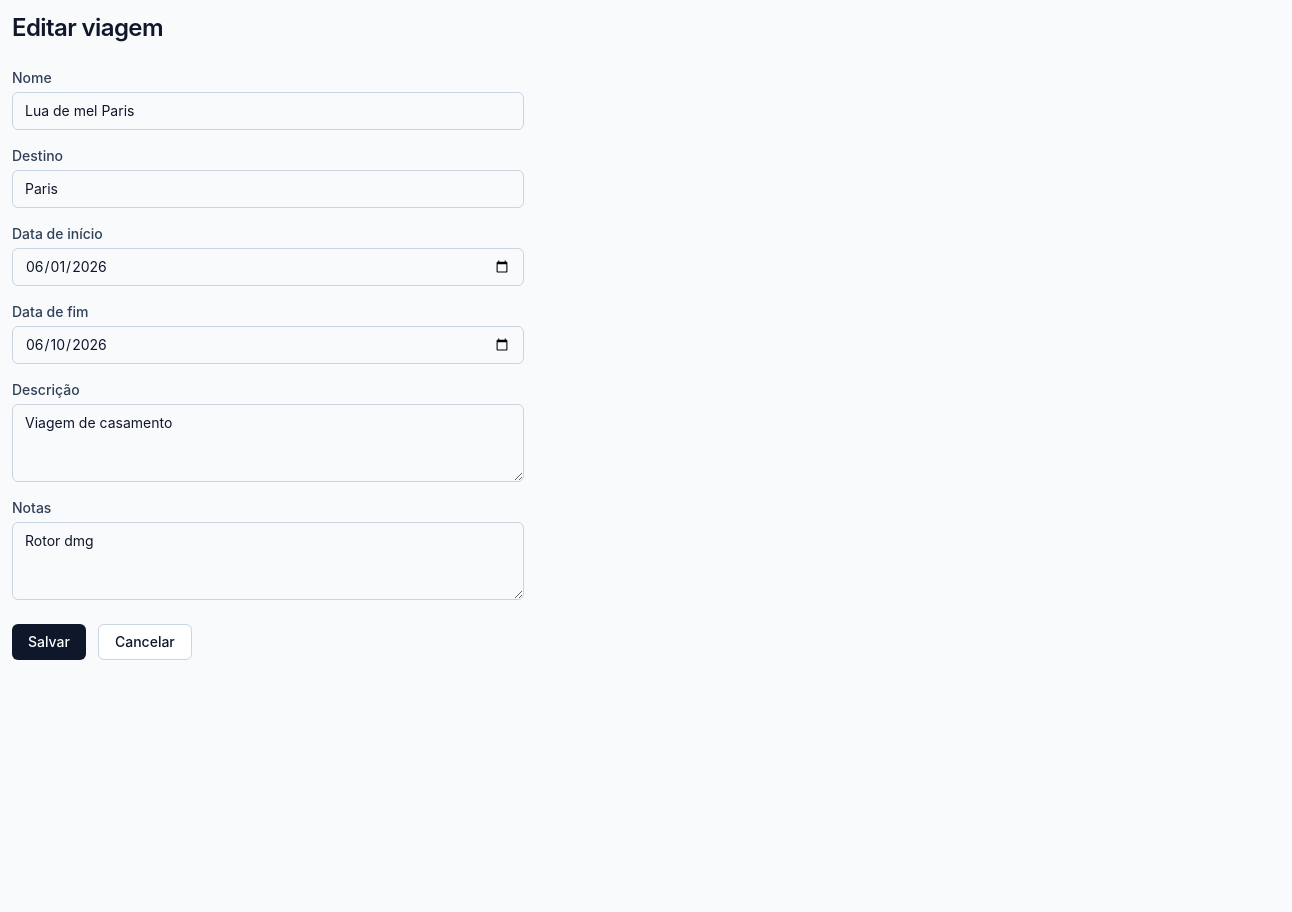
it: TripEditPage › 500/unknown error shows a generic safe fallback
This screenshot has width=1292, height=912.
Expected: the field labelled "Nome" is shown, [12, 92, 524, 130]
Click the button "Salvar" at (49, 642), box [12, 624, 86, 660]
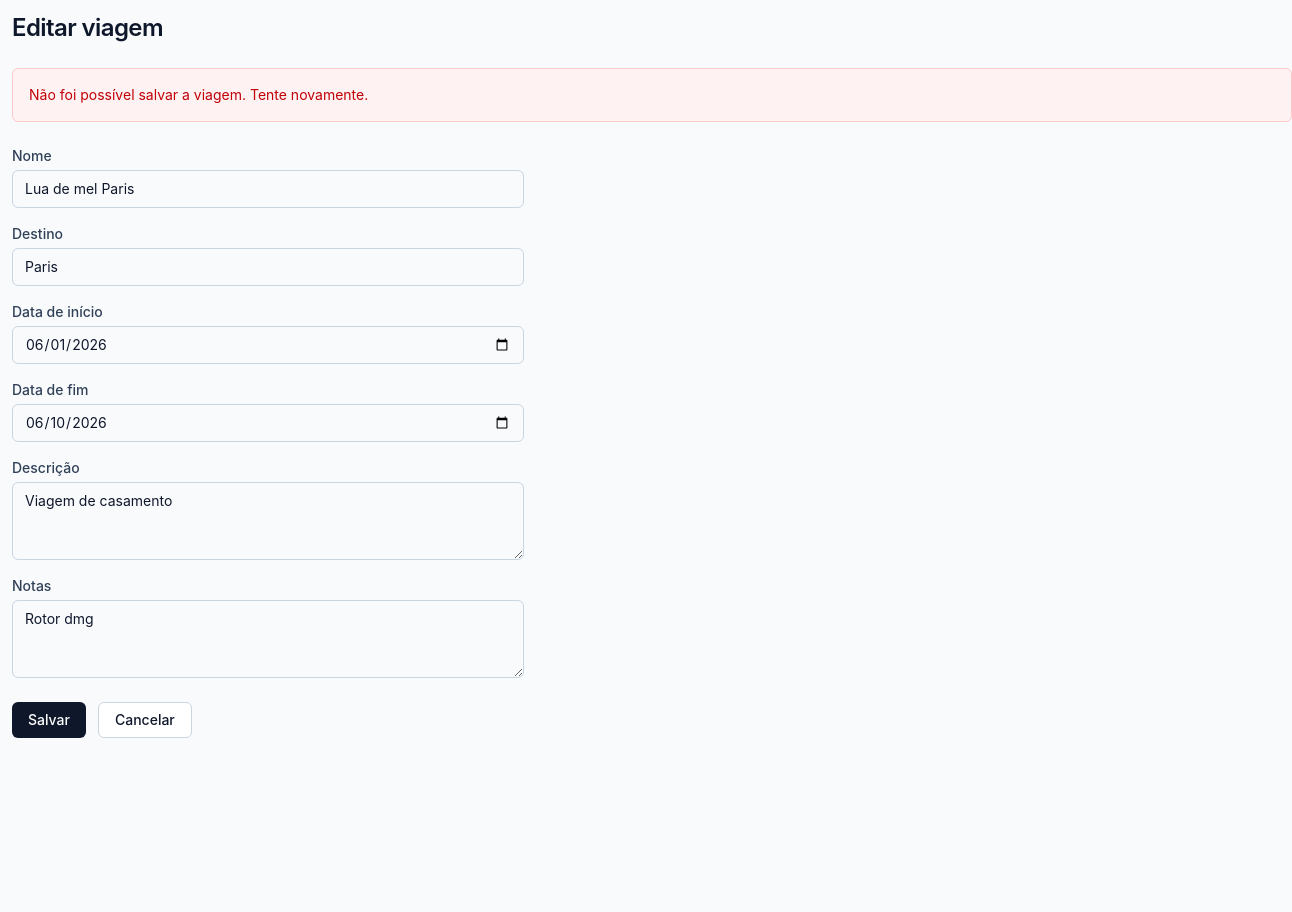
Expected: the text "Não foi possível salvar a viagem. Tente novamente." is shown, [12, 68, 1291, 122]
